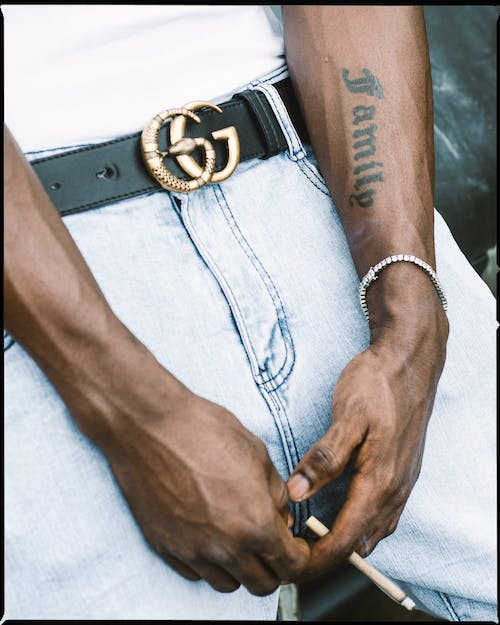cigarette: (303, 513, 418, 614)
